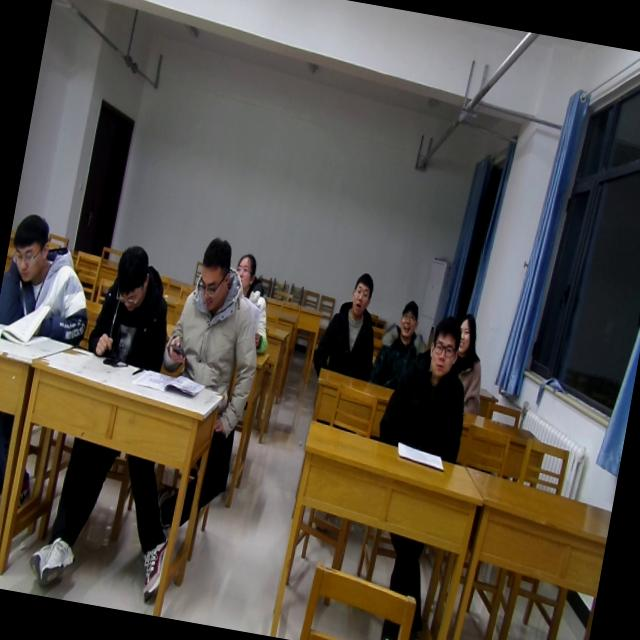bow: (0, 212, 105, 354)
down: (4, 208, 56, 288), (190, 231, 240, 314), (106, 238, 156, 318)
lookup: (423, 310, 466, 383), (342, 264, 378, 320), (391, 292, 422, 348), (228, 248, 264, 294), (452, 307, 482, 358)
sit: (156, 230, 276, 394), (374, 306, 486, 462), (83, 239, 181, 373), (311, 263, 388, 382), (222, 251, 284, 355), (369, 296, 434, 392), (441, 310, 497, 416)
